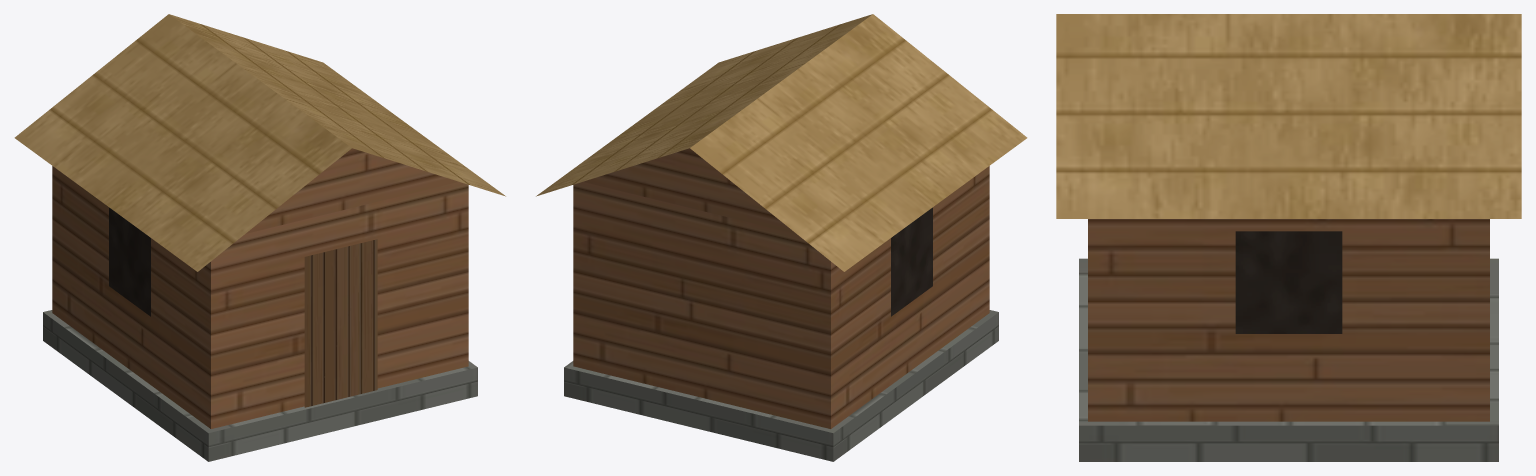
Rendered from ae_sand_wood_small_hut_lod2.glb.
3 renders of one model, left to right at view 1: azimuth 30°, elevation 25°; view 2: azimuth 150°, elevation 25°; view 3: azimuth 270°, elevation 25°, orthographic. The views are drawn at different scales.
Visible parts, largest first — view 1: ae_sand_wood_small_hut_lod2; view 2: ae_sand_wood_small_hut_lod2; view 3: ae_sand_wood_small_hut_lod2.
Part boxes in pixels (x1=…): ae_sand_wood_small_hut_lod2: x1=14, y1=14, x2=505, y2=461; ae_sand_wood_small_hut_lod2: x1=536, y1=14, x2=1027, y2=461; ae_sand_wood_small_hut_lod2: x1=1056, y1=14, x2=1521, y2=461.
Size of the model in its own units: 3.6 by 3.2 by 3.7.
Materials: 1 (1 with a texture image).
